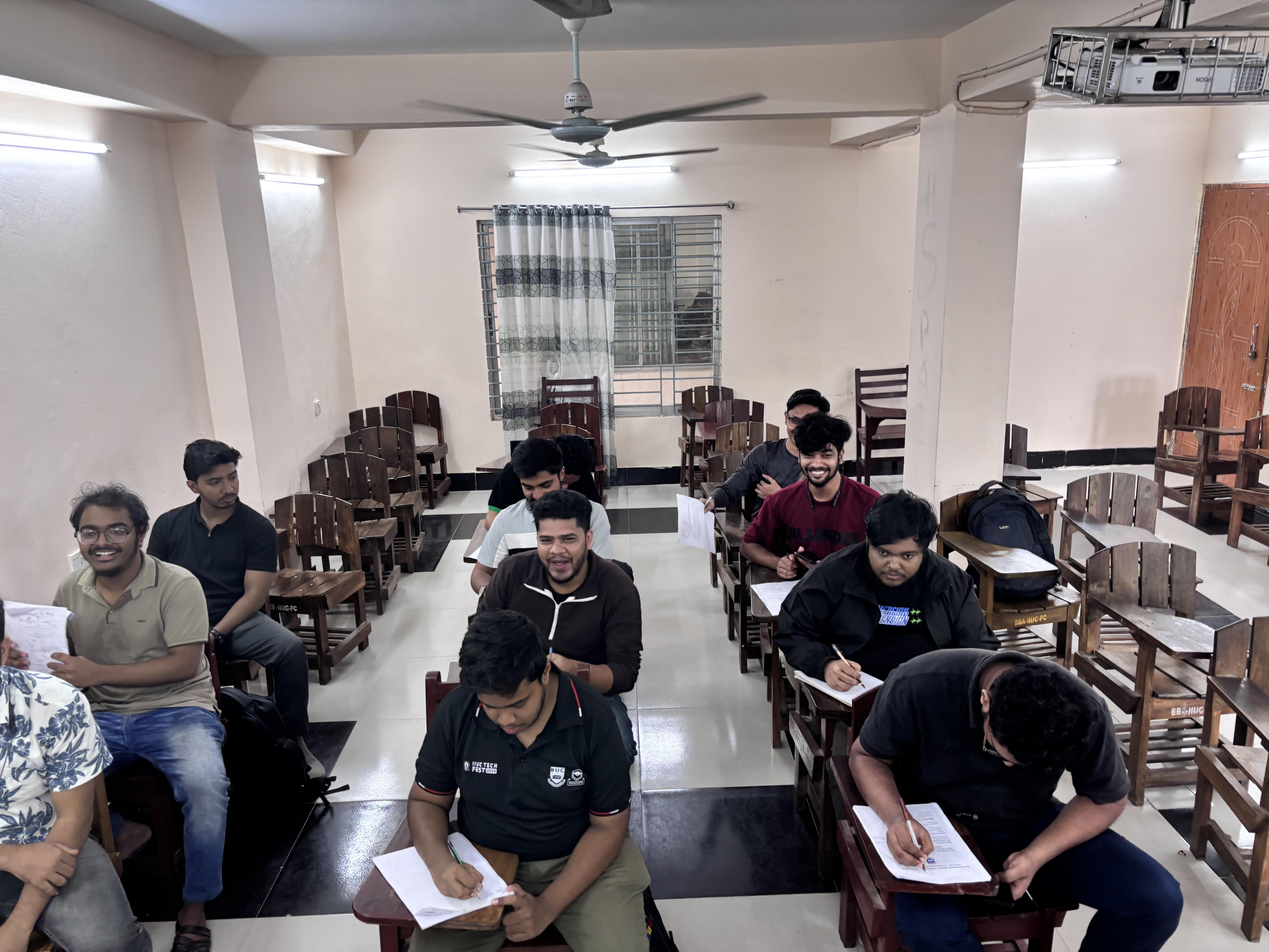copying: (154, 429, 313, 749)
no_cheating: (395, 602, 661, 952), (776, 484, 1005, 716), (0, 609, 147, 952), (484, 432, 610, 544), (492, 427, 610, 491)
suspicious_moving: (28, 472, 214, 950), (484, 493, 659, 694), (741, 408, 904, 620), (672, 384, 830, 563)
using_phone: (838, 642, 1186, 951)
